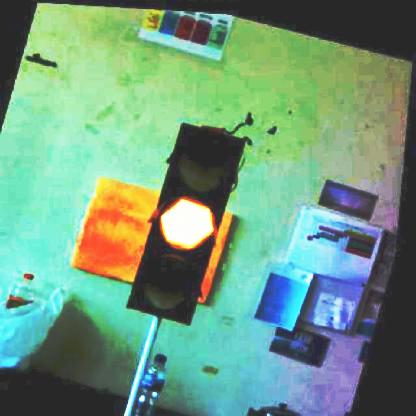Traffic Light -Yellow-: (128, 118, 248, 324)
